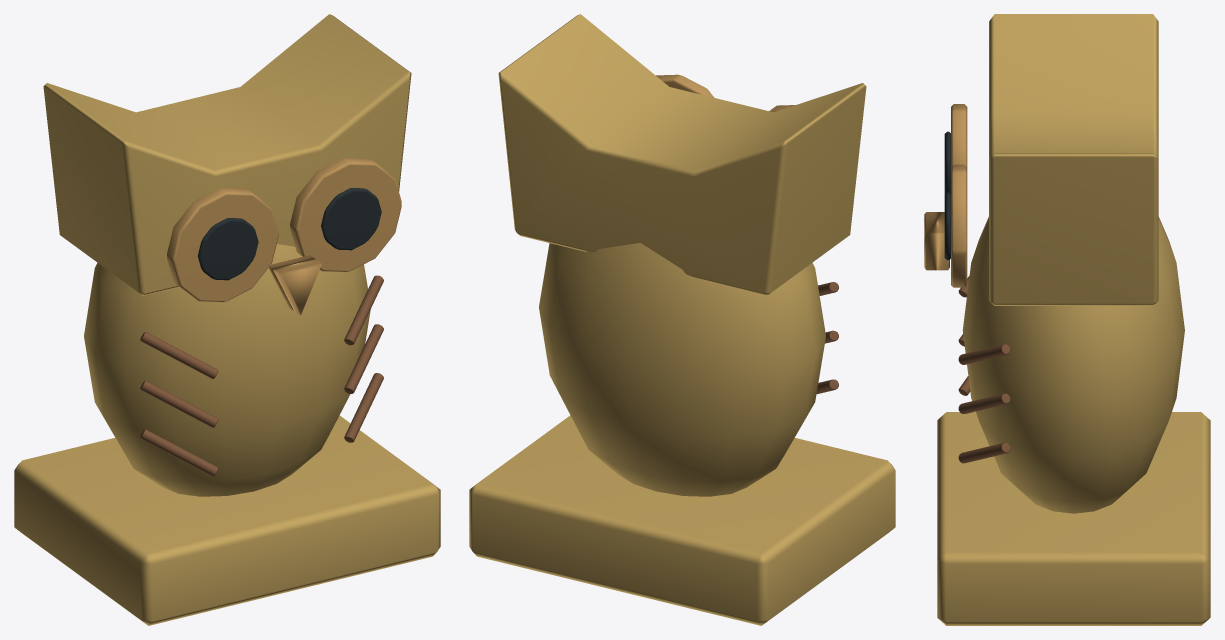
The model's file is P031_ancient_idol_rebuilt.glb.
The picture shows the model from 3 angles, left to right: view 1: azimuth 30°, elevation 25°; view 2: azimuth 150°, elevation 25°; view 3: azimuth 270°, elevation 25°; orthographic projection.
Parts seen in each view (by area): view 1: Owl_molded_metallic_gold_paint, edge, dark, wood; view 2: Owl_molded_metallic_gold_paint, edge, wood; view 3: Owl_molded_metallic_gold_paint, edge, wood, dark.
Boxes of the visible parts, left/top/right/bottom form: Owl_molded_metallic_gold_paint: left=14, top=14, right=440, bottom=625; edge: left=167, top=158, right=401, bottom=315; dark: left=197, top=188, right=381, bottom=280; wood: left=140, top=275, right=383, bottom=476; Owl_molded_metallic_gold_paint: left=469, top=14, right=895, bottom=625; edge: left=656, top=74, right=795, bottom=112; wood: left=816, top=282, right=838, bottom=394; Owl_molded_metallic_gold_paint: left=937, top=14, right=1210, bottom=625; edge: left=924, top=104, right=967, bottom=287; wood: left=958, top=276, right=1010, bottom=463; dark: left=944, top=131, right=950, bottom=260.
Size of the model in its own units: 0.2 by 0.298 by 0.1635.
